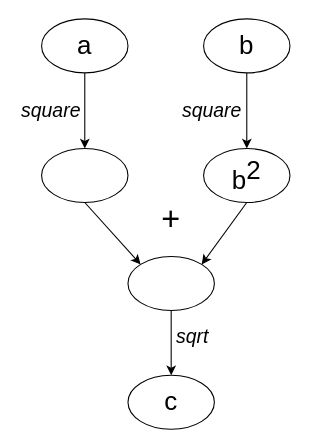
This 309x448 diagram has some shape labels left out. Each missing label, with the box of its shape:
a 2: (40, 147, 128, 202)
c 2: (127, 255, 214, 310)
